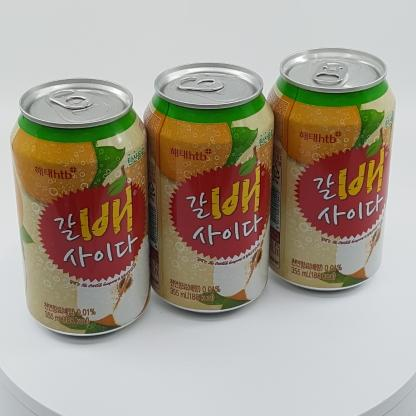-------355ML: (10, 78, 152, 337), (143, 62, 275, 314), (266, 47, 396, 292)
